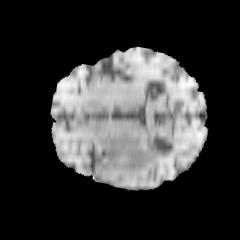glioma: (94, 133, 162, 182)
